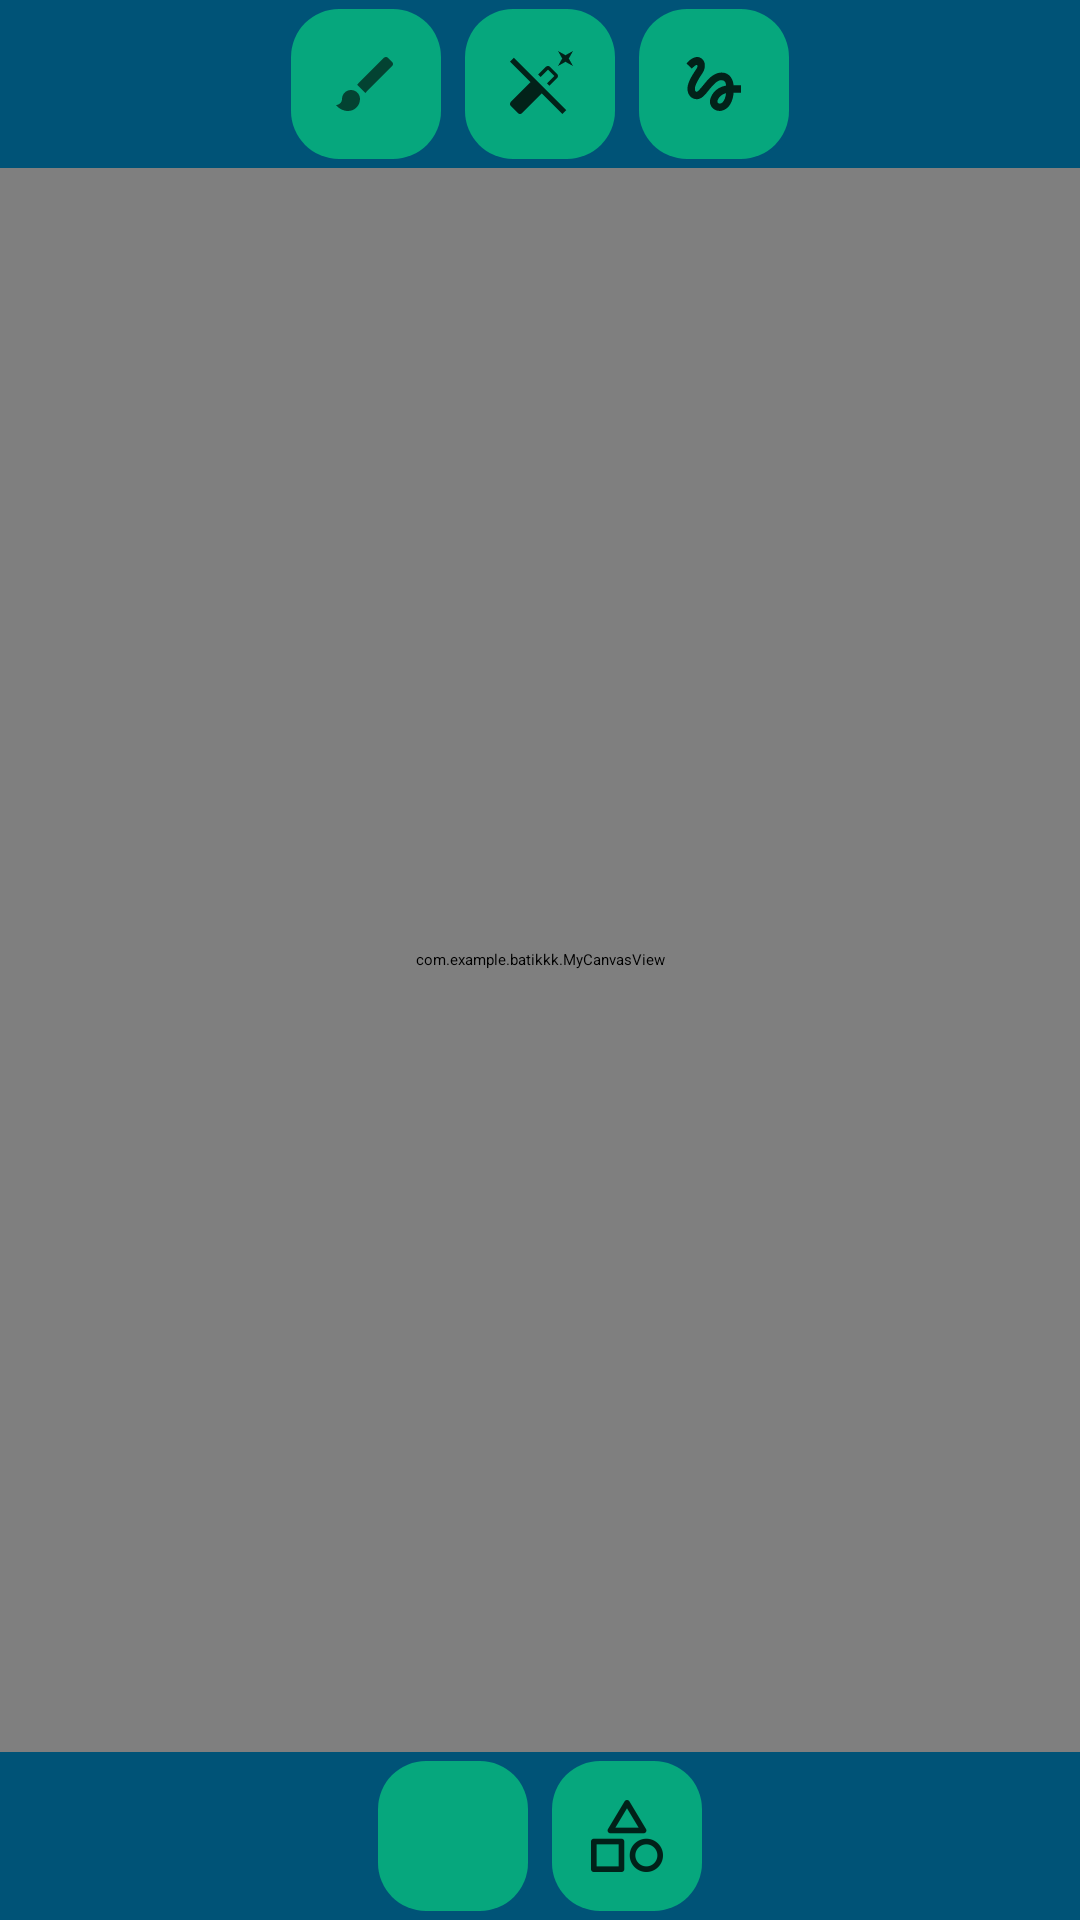

Screen size 1080*1920. Icon name, then its box in pixels as [x1, y1, x2, y2]:
brush eraser: [510, 51, 573, 114]
shapes: [591, 1800, 663, 1872]
